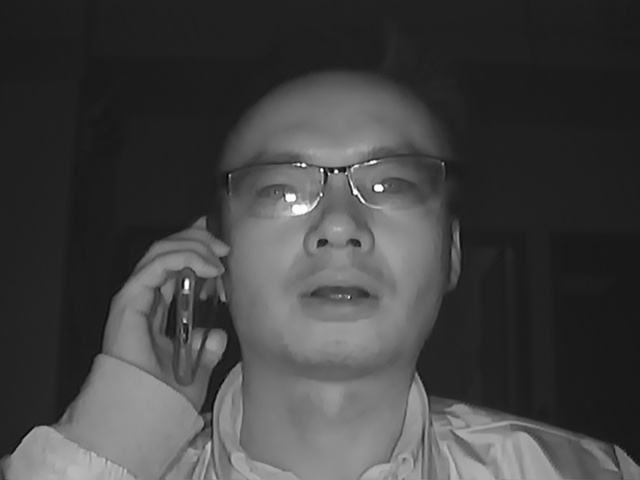hand: (91, 210, 228, 397)
